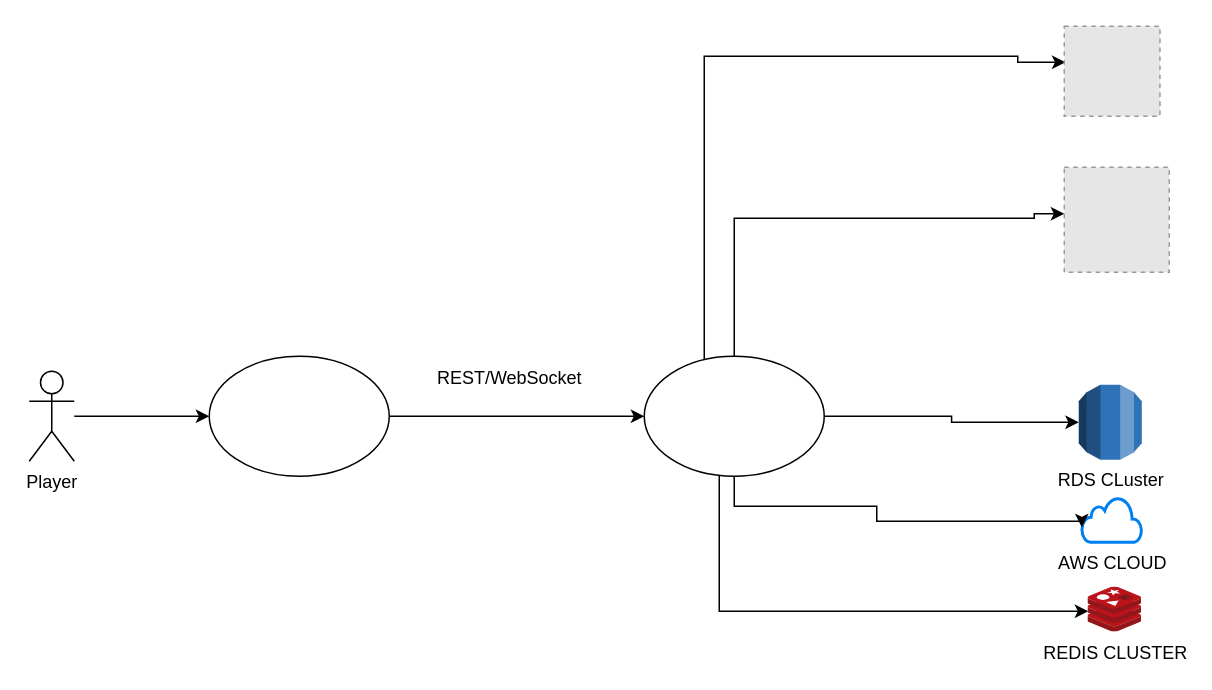
Image size: 1212x690. Some labels were removed from this diagram. Grey dashed boxes stand in for pictures. The centre of each missing label's shape, as x and y in pixels:
RPG Bckend- NestJS: (733,415)
Unreal Engine: (298,415)
